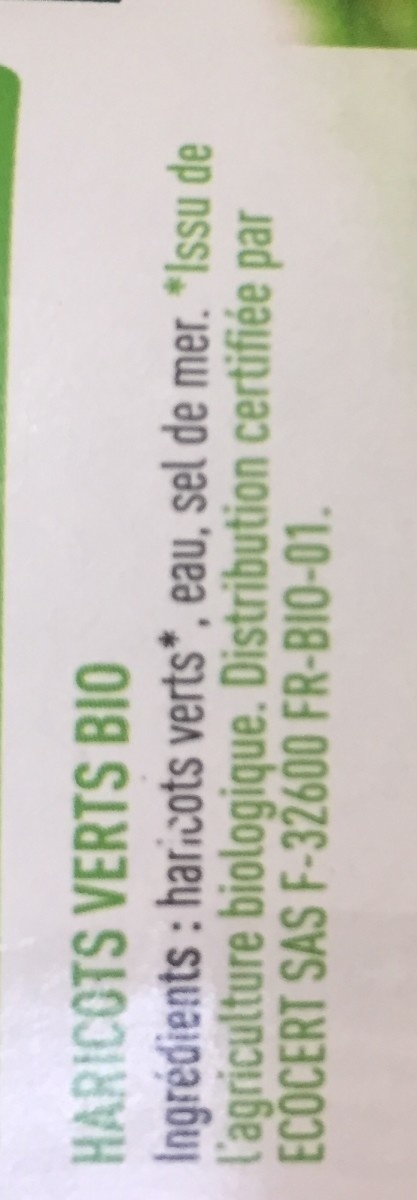ingredients: (131, 84, 393, 1169)
